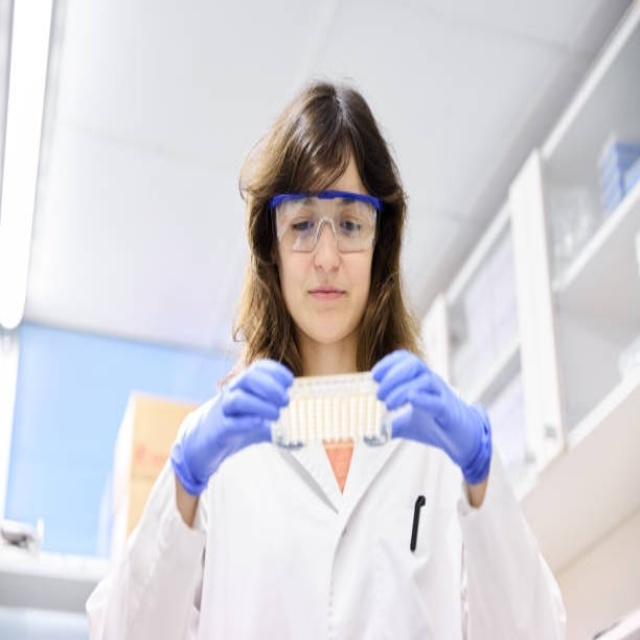Gafas: (269, 194, 382, 254)
Guantes: (171, 359, 296, 498), (372, 349, 493, 485)
Sin_mascara: (300, 275, 352, 325)
